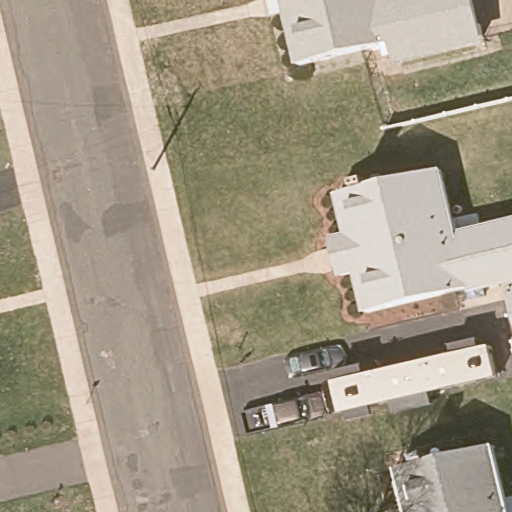DT: (149, 126, 179, 171)
